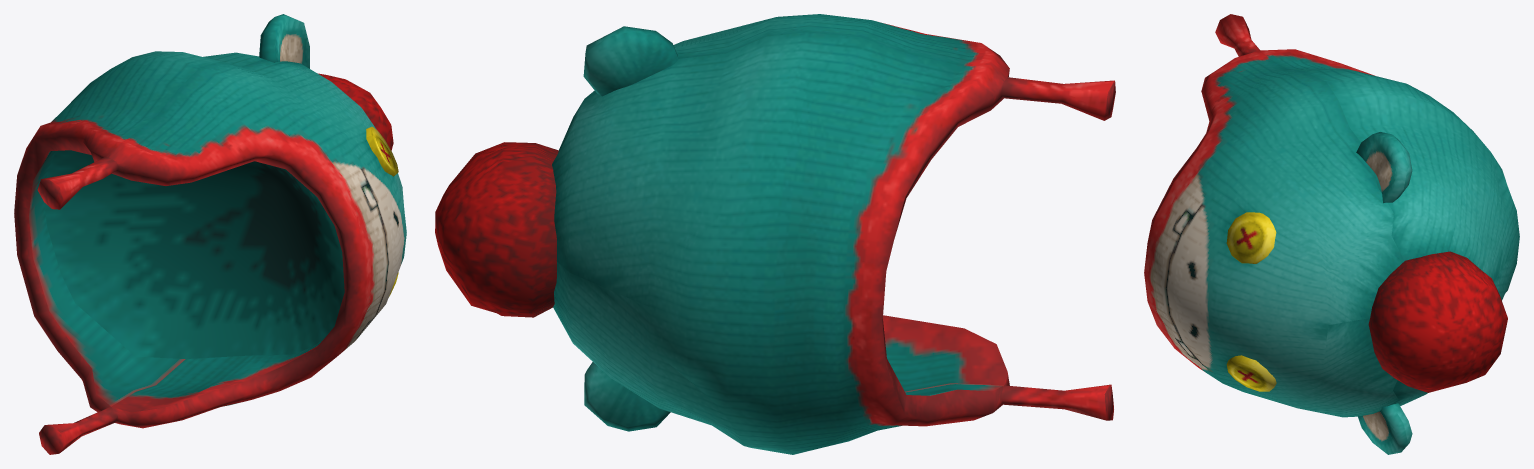
File: M_CampingKnitHat.fbx
3 views of the same model, side by side, from view 1: azimuth 30°, elevation 25°; view 2: azimuth 150°, elevation 25°; view 3: azimuth 270°, elevation 25° (orthographic). The views are drawn at different scales.
Visible parts, largest first — view 1: 5_mesh_0.05_0_0_root_root; view 2: 5_mesh_0.05_0_0_root_root; view 3: 5_mesh_0.05_0_0_root_root.
Boxes of the visible parts, bbox=[...] form: 5_mesh_0.05_0_0_root_root: bbox=[14, 14, 406, 454]; 5_mesh_0.05_0_0_root_root: bbox=[435, 14, 1115, 454]; 5_mesh_0.05_0_0_root_root: bbox=[1144, 14, 1519, 454].
Bounding box in the file's own units: 0.2013 × 0.1427 × 0.1535.
